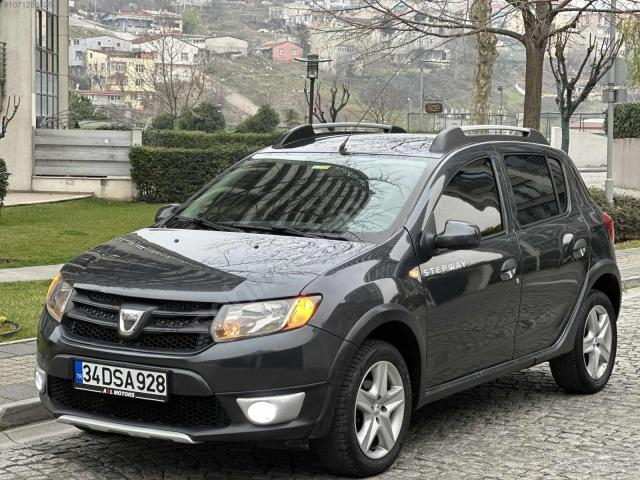plaka: (73, 360, 167, 401)
